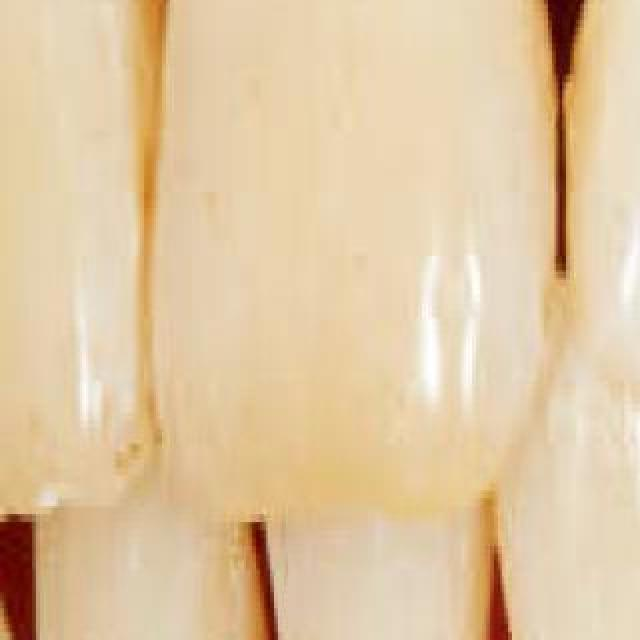plaque: (70, 0, 220, 160)
spacing: (486, 0, 630, 312), (210, 446, 328, 640), (4, 414, 82, 640), (456, 490, 552, 640)
